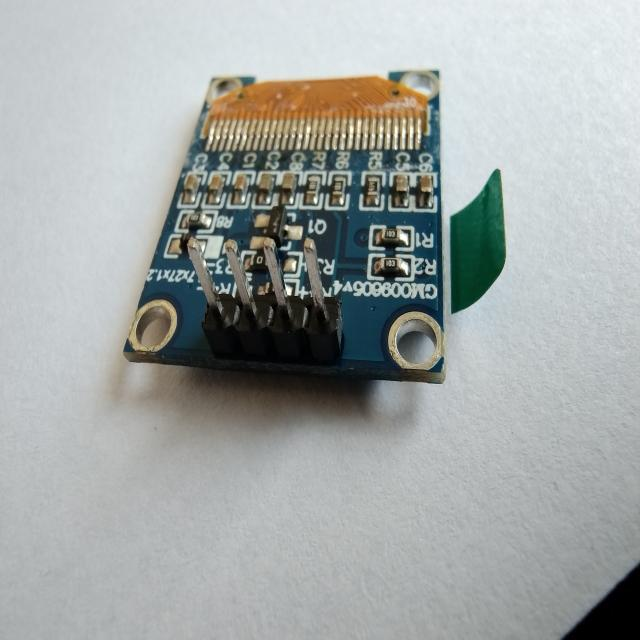oled: (98, 43, 514, 448)
